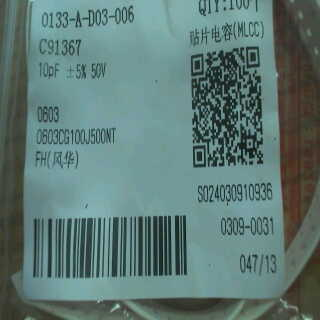10pF: (37, 58, 59, 84)
